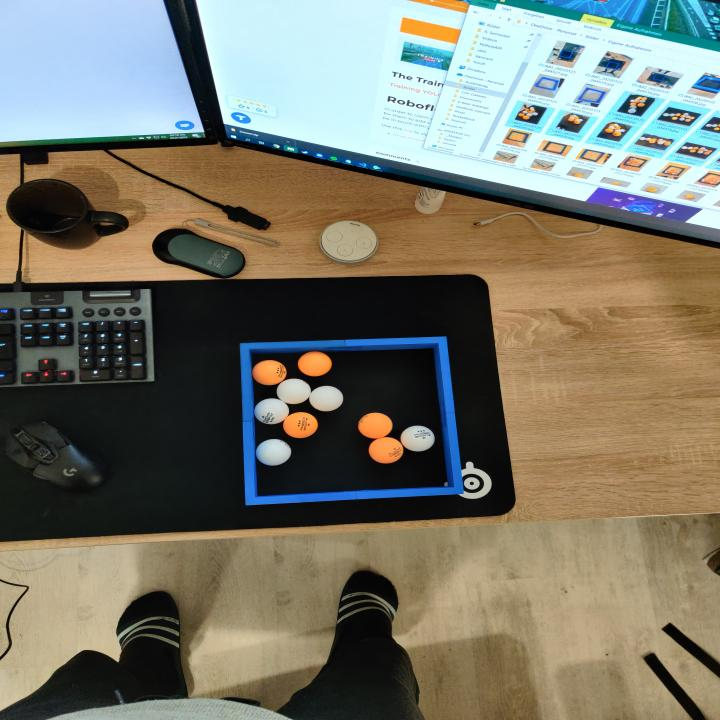orange: (366, 435, 406, 465), (282, 410, 318, 440), (358, 411, 393, 441), (297, 350, 333, 378), (252, 359, 288, 386)
white: (402, 423, 438, 453), (255, 438, 292, 467), (309, 384, 344, 413), (253, 398, 290, 425), (279, 377, 312, 407)
